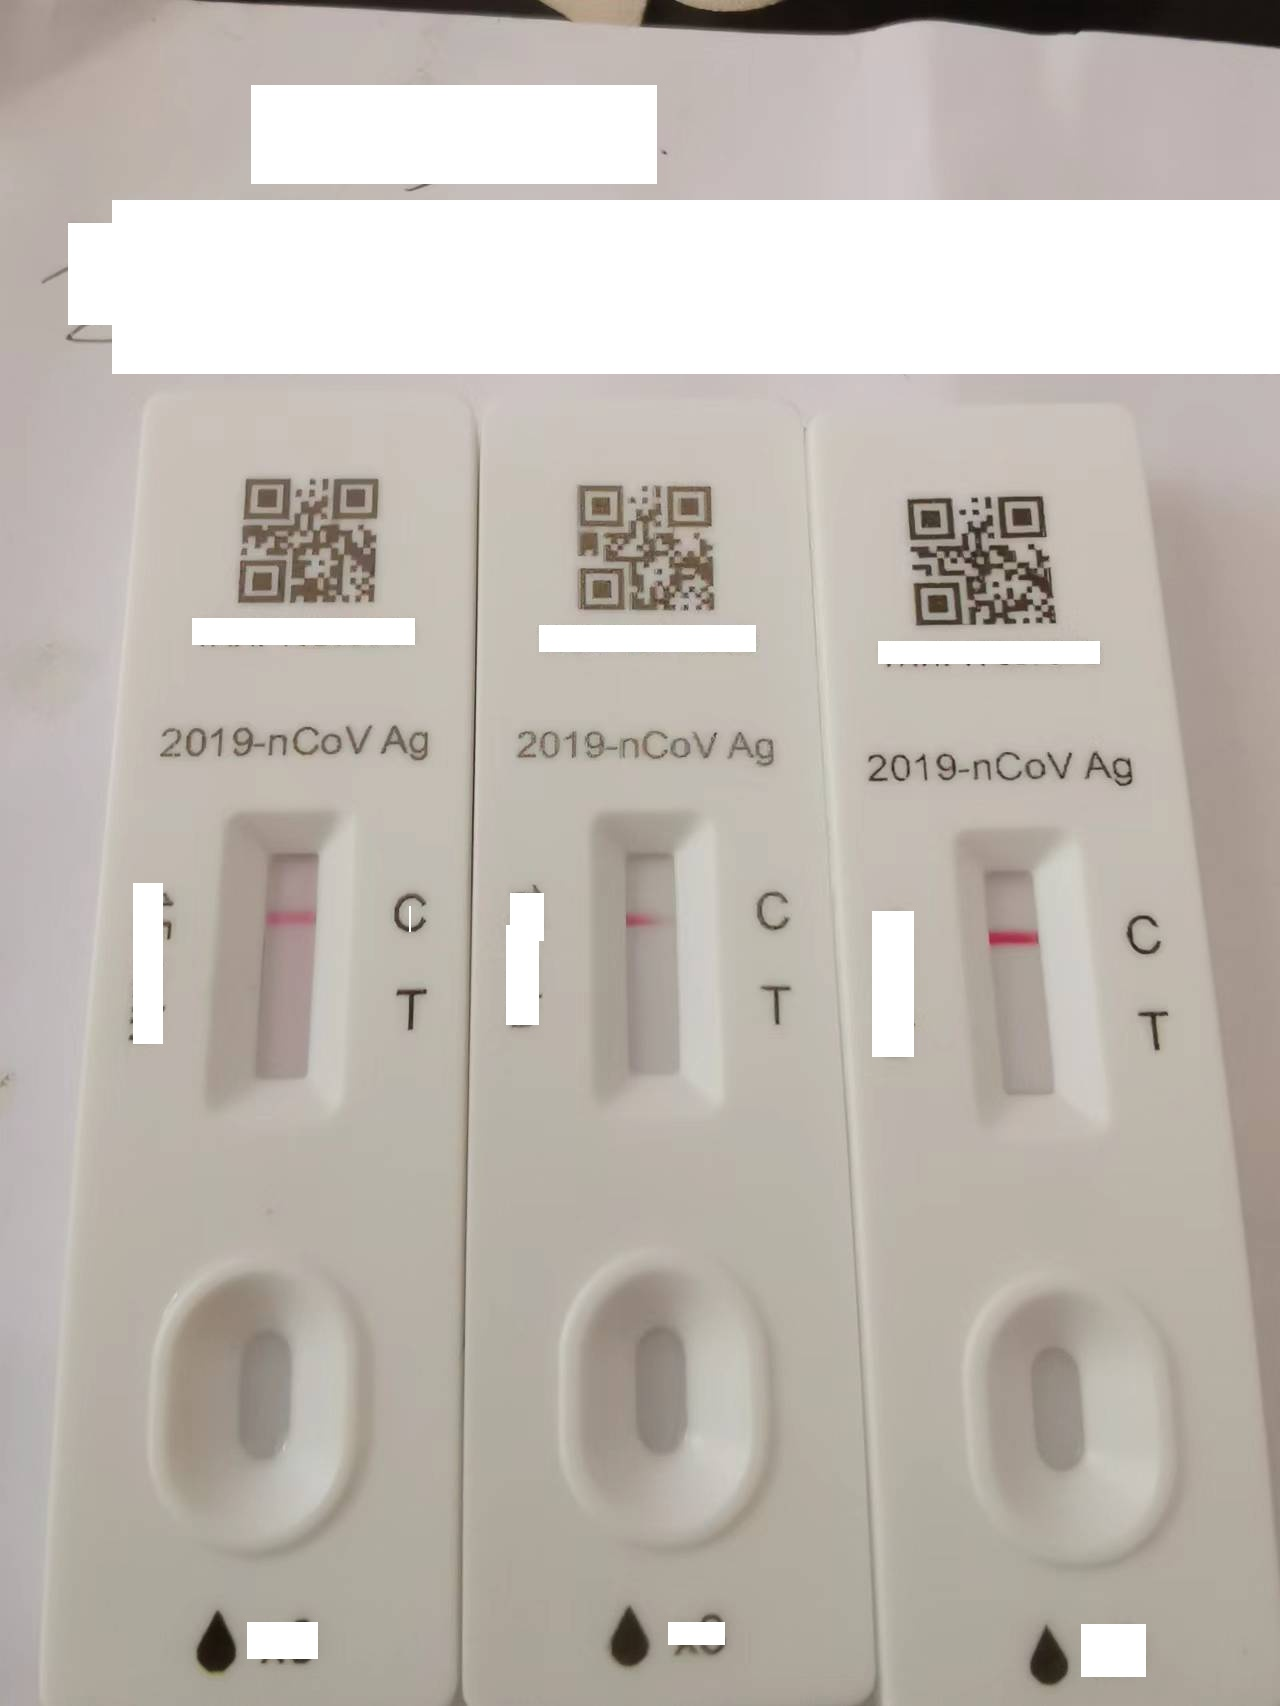negative: (956, 829, 1084, 1133), (588, 811, 703, 1121), (225, 804, 333, 1110)
